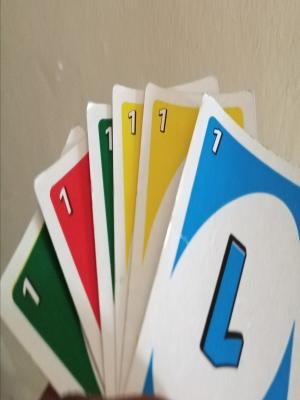blue: (207, 110, 224, 174)
green: (95, 110, 113, 234), (18, 257, 53, 318)
num_1: (196, 193, 259, 392), (150, 97, 172, 147)
red: (48, 182, 88, 220)
yellow: (119, 94, 140, 253)
